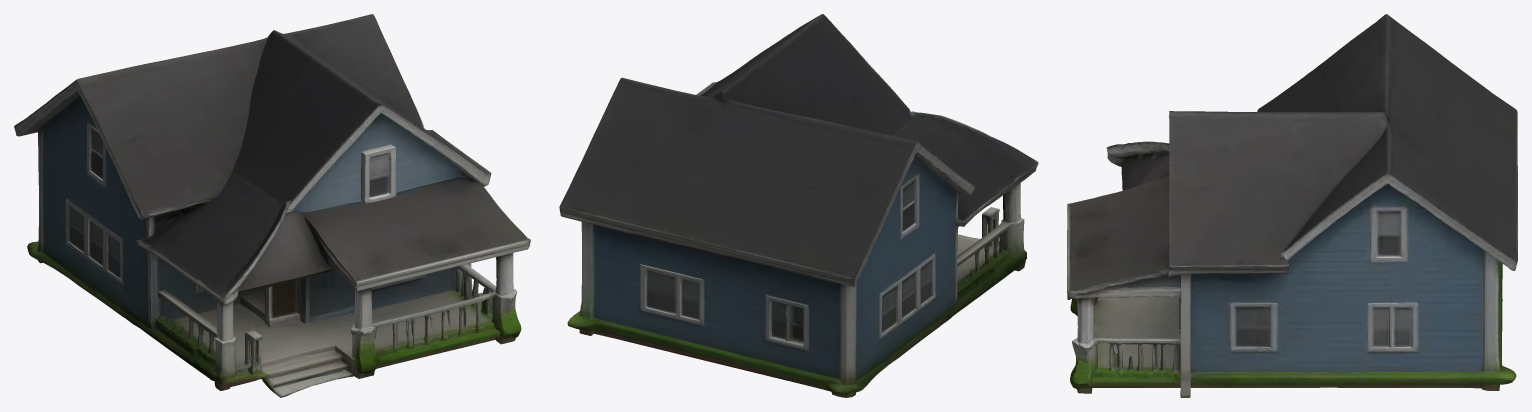
File: house 5.glb
The picture shows the model from 3 angles, left to right: view 1: azimuth 30°, elevation 25°; view 2: azimuth 150°, elevation 25°; view 3: azimuth 270°, elevation 25°; orthographic projection. The views are drawn at different scales.
Visible parts, largest first — view 1: world; view 2: world; view 3: world.
Boxes of the visible parts, left/top/right/bottom form: world: left=14, top=14, right=530, bottom=397; world: left=559, top=14, right=1038, bottom=397; world: left=1067, top=14, right=1517, bottom=397.
Bounding box in the file's own units: 0.8249 × 0.5812 × 0.9992.
Materials: 1 (1 with a texture image).
